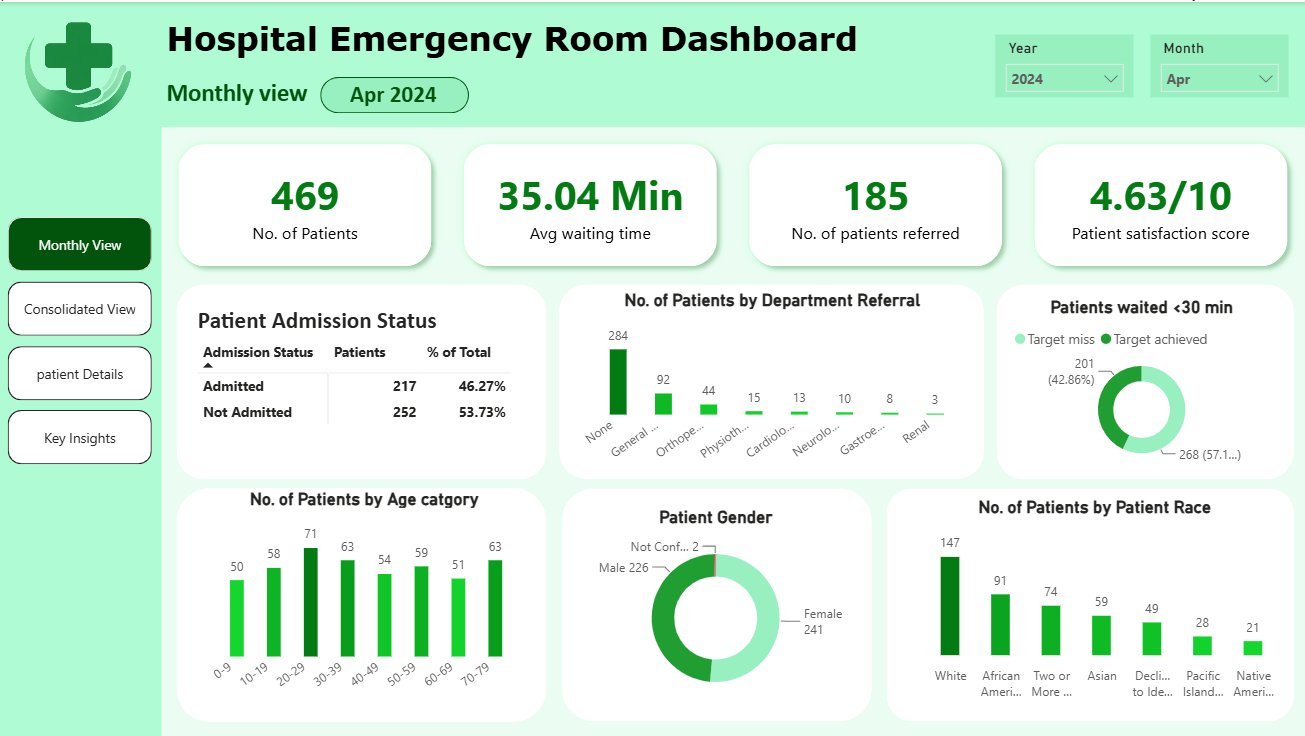

This screenshot's page, from the dashboard's own definition file:
{"tool":"powerbi","page":{"name":"Monthly View","canvas":[1280,720],"ordinal":0},"visuals":[{"type":"shape","box":[0,0,159,720.2],"z":0},{"type":"shape","box":[0,0,1280.3,122.3],"z":1000},{"type":"textbox","box":[159,11,783.8,62.4],"z":2000},{"type":"cardVisual","fields":{"Data":["Hospital ER_Data.No. of Patients","Hospital ER_Data.Avg waiting time","Hospital ER_Data.referal count","Hospital ER_Data.patient satisfaction"]},"box":[159,122.5,1121,153.8],"z":3000},{"type":"slicer","fields":{"Values":["Date Table.Year"]},"box":[975,31.3,135.6,61.3],"z":4000},{"type":"slicer","fields":{"Values":["Date Table.Month"]},"box":[1126.2,31.3,135.6,61.3],"z":5000},{"type":"textbox","box":[159,68.5,377.9,48.9],"z":6000},{"type":"shape","box":[314.3,73.4,145.5,35.5],"z":7000},{"type":"cardVisual","fields":{"Data":["Min(Date Table.month & year)"]},"box":[314.1,51.3,159,75.6],"z":8000},{"type":"shape","box":[173.6,276.4,362,190.8],"z":9000,"group":"g4"},{"type":"group","id":"g1","title":"Group 1","box":[173.6,475.7,362,228.7],"z":9000},{"type":"shape","box":[550.2,475.7,303.7,228.1],"z":9000,"group":"g6"},{"type":"group","id":"g2","title":"Group 2","box":[975.8,276.4,291,190.8],"z":10000},{"type":"pivotTable","title":"Patient Admission Status","fields":{"Rows":["Hospital ER_Data.Admission check"],"Values":["Hospital ER_Data.No. of Patients","Divide(Hospital ER_Data.No. of Patients, ScopedEval(Hospital ER_Data.No. of Patients, []))"]},"box":[189.1,297.3,328.3,147.6],"z":10000,"group":"g4"},{"type":"donutChart","title":" Patient Gender","fields":{"Y":["Hospital ER_Data.No. of Patients"],"Category":["Hospital ER_Data.Patient Gender"]},"box":[560.6,493.6,282.5,196.9],"z":10000,"group":"g6"},{"type":"group","id":"g3","title":"Group 3","box":[547.5,276.3,415.8,190.3],"z":11000},{"type":"group","id":"g4","title":"Group 4","box":[173.6,276.4,362,190.8],"z":12000},{"type":"shape","box":[173.6,475.7,362,228.7],"z":12000,"group":"g1"},{"type":"shape","box":[868.1,475.8,398.9,228.1],"z":12000,"group":"g5"},{"type":"columnChart","fields":{"Category":["Hospital ER_Data.Age catgory"],"Y":["Hospital ER_Data.No. of Patients"]},"box":[201.4,475.7,311.1,215.8],"z":13000,"group":"g1"},{"type":"group","id":"g5","title":"Group 5","box":[868.1,475.8,398.9,228.1],"z":13000},{"type":"shape","box":[547.5,276.3,415.8,190.3],"z":14000,"group":"g3"},{"type":"group","id":"g6","title":"Group 6","box":[550.2,475.7,303.3,228.7],"z":14000},{"type":"image","box":[0,0,157.7,133.3],"z":15000},{"type":"columnChart","fields":{"Category":["Hospital ER_Data.Department Referral"],"Y":["Hospital ER_Data.No. of Patients"]},"box":[564.4,281.5,383.2,178.6],"z":15000,"group":"g3"},{"type":"pageNavigator","box":[9,210.3,141,244.9],"z":16000},{"type":"shape","box":[975.8,276.4,291,190.8],"z":16000,"group":"g2"},{"type":"donutChart","title":"Patients waited <30 min","fields":{"Y":["Hospital ER_Data.No. of Patients"],"Category":["Hospital ER_Data.waittime check"]},"box":[988.3,288.6,259.8,170],"z":17000,"group":"g2"},{"type":"columnChart","fields":{"Y":["Hospital ER_Data.No. of Patients"],"Category":["Hospital ER_Data.Patient Race"]},"box":[881.1,484.9,380.6,205.9],"z":18000,"group":"g5"}]}

Visuals, with their boxes in screenshot pixels (x1, y1, x2, y2), scaled from the page's 1280x720 canvas onto the 1305x736 screenshot:
shape: BBox(0, 0, 162, 735)
shape: BBox(0, 0, 1304, 125)
textbox: BBox(162, 11, 961, 75)
cardVisual - Hospital ER_Data.No. of Patients x Hospital ER_Data.Avg waiting time: BBox(162, 125, 1304, 282)
slicer - Date Table.Year: BBox(994, 32, 1132, 95)
slicer - Date Table.Month: BBox(1148, 32, 1286, 95)
textbox: BBox(162, 70, 547, 120)
shape: BBox(320, 75, 469, 111)
cardVisual - Min(Date Table.month & year): BBox(320, 52, 482, 130)
shape: BBox(177, 283, 546, 478)
"Group 1" group: BBox(177, 486, 546, 720)
shape: BBox(561, 486, 871, 719)
"Group 2" group: BBox(995, 283, 1292, 478)
"Patient Admission Status" pivotTable: BBox(193, 304, 528, 455)
" Patient Gender" donutChart: BBox(572, 505, 860, 706)
"Group 3" group: BBox(558, 282, 982, 477)
"Group 4" group: BBox(177, 283, 546, 478)
shape: BBox(177, 486, 546, 720)
shape: BBox(885, 486, 1292, 720)
columnChart - Hospital ER_Data.Age catgory x Hospital ER_Data.No. of Patients: BBox(205, 486, 523, 707)
"Group 5" group: BBox(885, 486, 1292, 720)
shape: BBox(558, 282, 982, 477)
"Group 6" group: BBox(561, 486, 870, 720)
image: BBox(0, 0, 161, 136)
columnChart - Hospital ER_Data.Department Referral x Hospital ER_Data.No. of Patients: BBox(575, 288, 966, 470)
pageNavigator: BBox(9, 215, 153, 465)
shape: BBox(995, 283, 1292, 478)
"Patients waited <30 min" donutChart: BBox(1008, 295, 1272, 469)
columnChart - Hospital ER_Data.No. of Patients x Hospital ER_Data.Patient Race: BBox(898, 496, 1286, 706)
